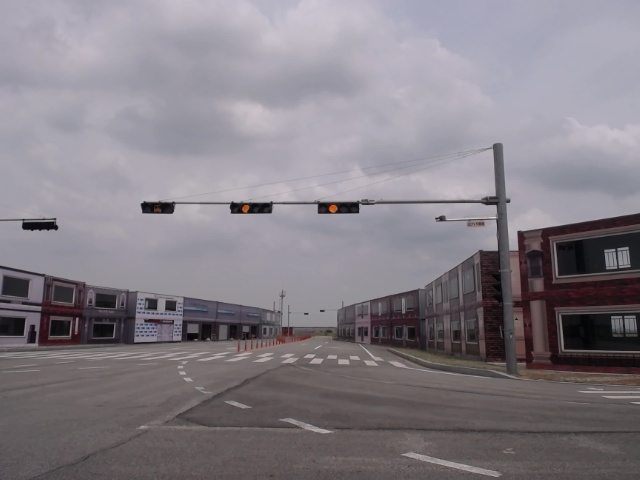orange_4: (228, 202, 273, 215), (317, 201, 362, 214)
